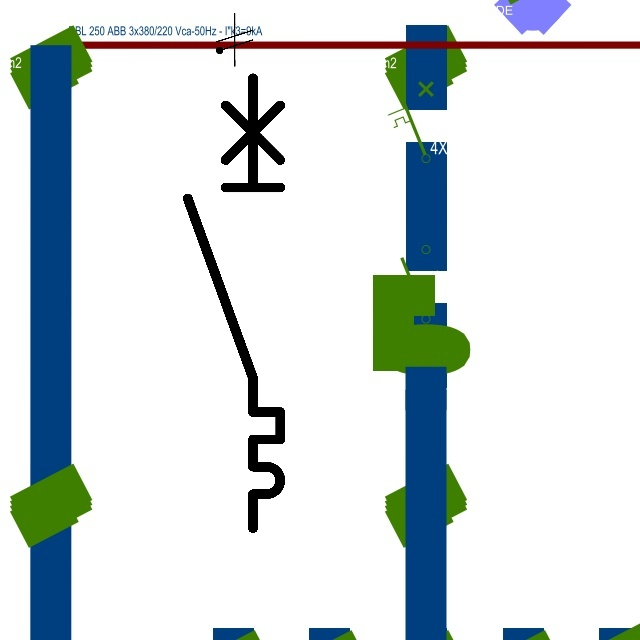interruptor_termomagnetico: (176, 66, 292, 539)
